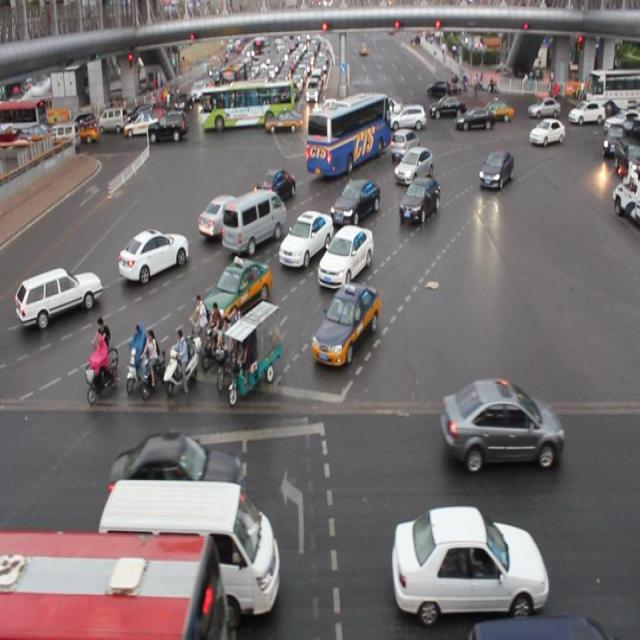car: (390, 506, 550, 616), (441, 377, 564, 470), (111, 430, 242, 508), (312, 284, 380, 374), (16, 264, 103, 330), (202, 260, 274, 317), (117, 229, 190, 282), (317, 225, 374, 286), (278, 209, 331, 269), (329, 180, 382, 224), (198, 192, 242, 236), (397, 178, 439, 221), (254, 168, 298, 204), (393, 146, 435, 183), (479, 148, 513, 190), (528, 120, 563, 148), (390, 130, 419, 159)
truck: (100, 478, 281, 619), (224, 190, 288, 250)
van: (1, 525, 224, 640), (307, 95, 390, 175)
